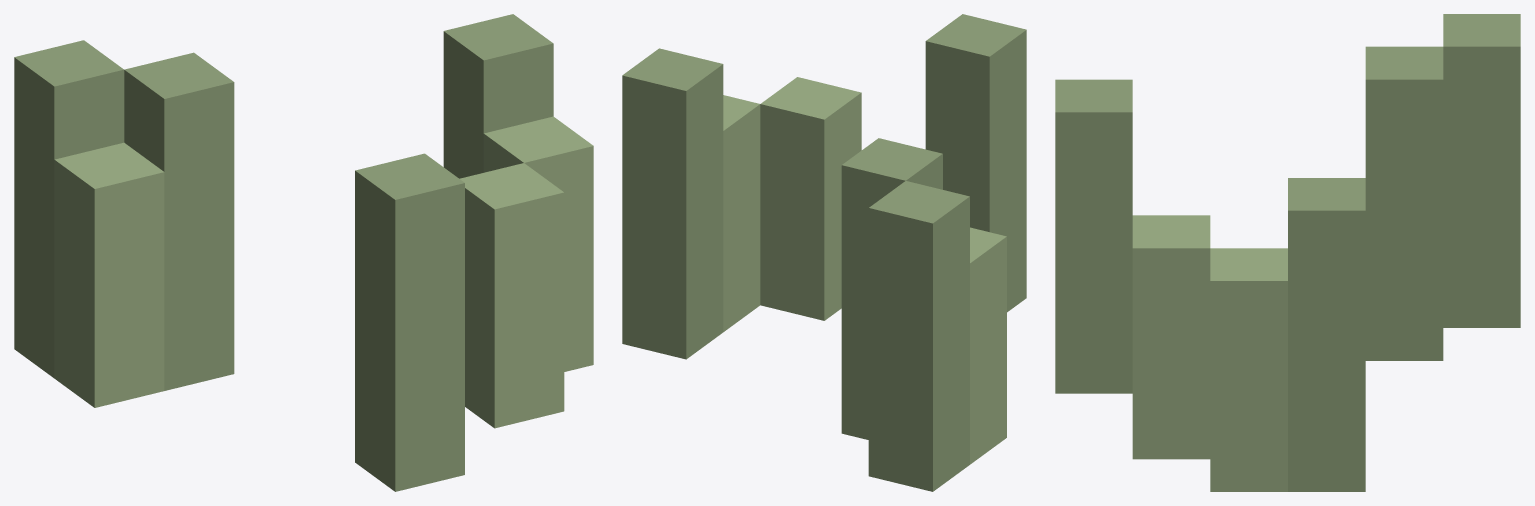
File: acedera_de_altura_04.glb
3 renders of one model, left to right at view 1: azimuth 30°, elevation 25°; view 2: azimuth 150°, elevation 25°; view 3: azimuth 270°, elevation 25°, orthographic. The views are drawn at different scales.
Visible parts, largest first — view 1: acedera_de_altura_04; view 2: acedera_de_altura_04; view 3: acedera_de_altura_04.
Part boxes in pixels (x1,y1,x2,y2): acedera_de_altura_04: [14, 14, 593, 491]; acedera_de_altura_04: [622, 14, 1026, 491]; acedera_de_altura_04: [1055, 14, 1520, 491].
Size of the model in its own units: 0.6 by 0.4 by 0.6.
